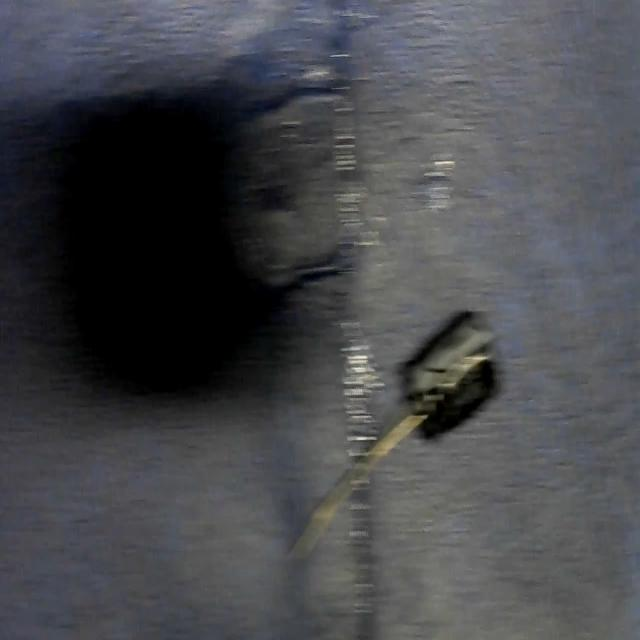capacitor: (284, 310, 497, 559)
